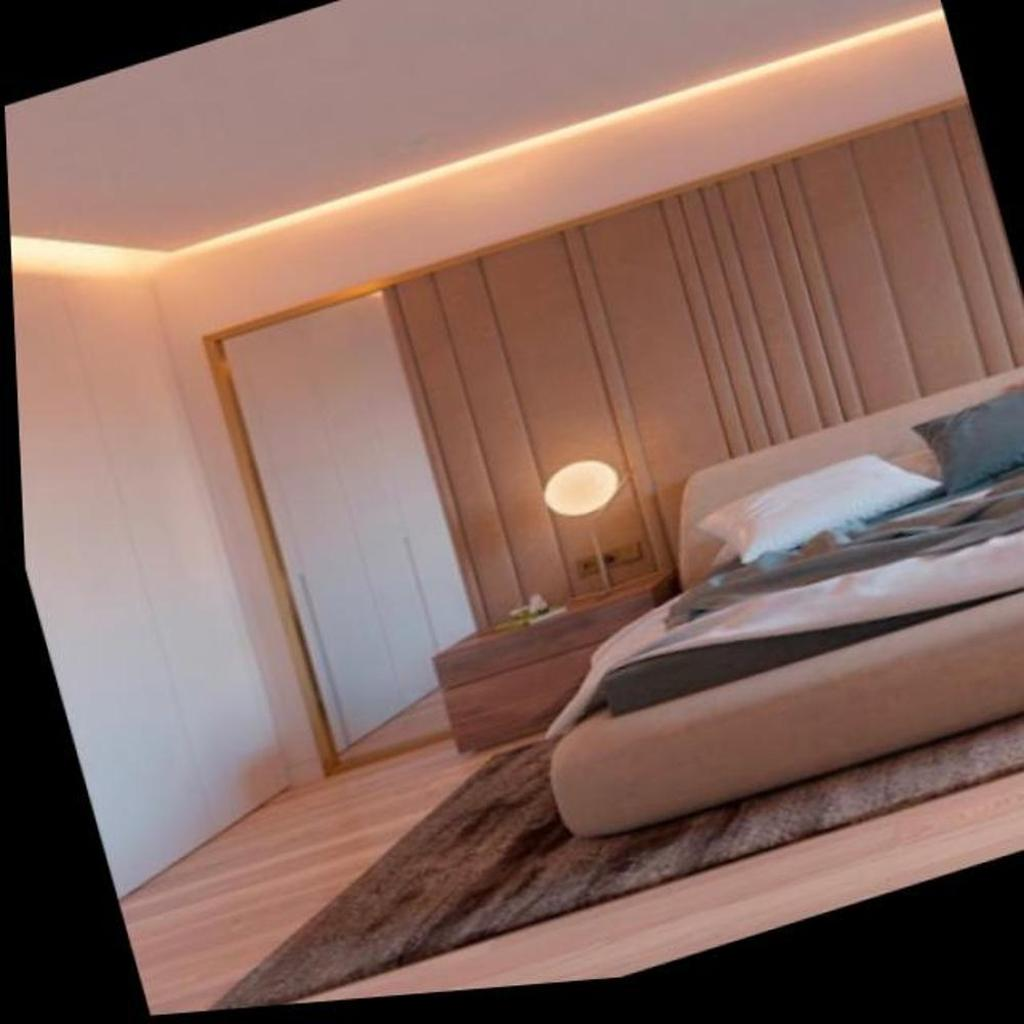shelf: (504, 436, 666, 632)
